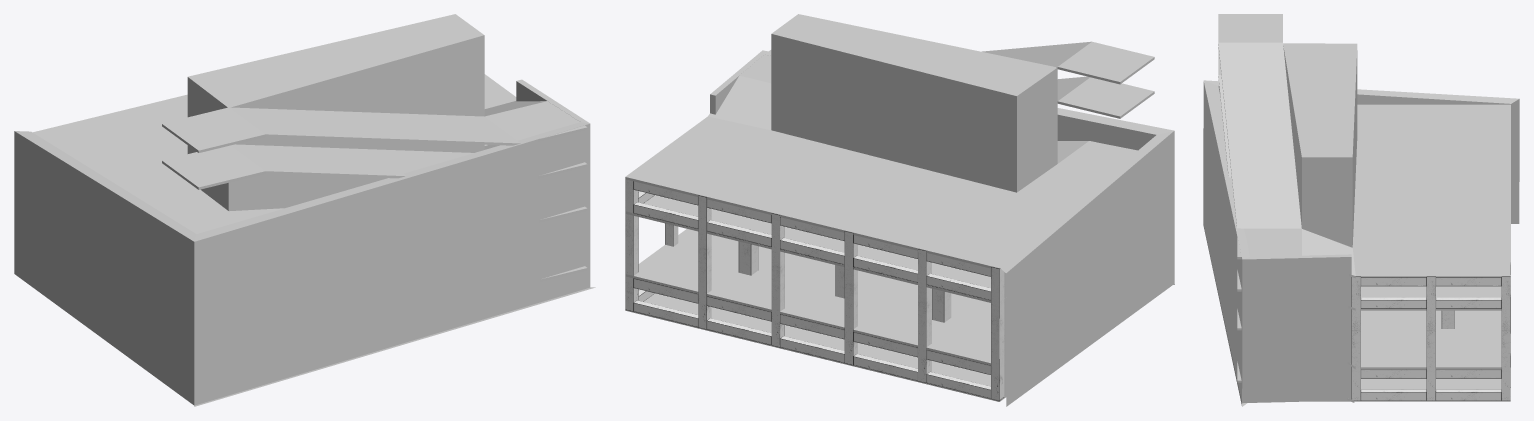
Rendered from Map2.fbx.
The picture shows the model from 3 angles, left to right: view 1: azimuth 30°, elevation 25°; view 2: azimuth 150°, elevation 25°; view 3: azimuth 270°, elevation 25°; orthographic projection. The views are drawn at different scales.
Parts seen in each view (by area): view 1: Floor.007, Floor.003, Floor.005, Floor.004, Floor.006, Floor.001; view 2: Floor.005, Floor.003, Floor.007, Floor.001, Cube.002, Cube.017, Floor.004, Cube.022, Floor, Cube.001, Cube; view 3: Floor.005, Floor.007, Floor.003, Floor.001, Cube.001, Floor.004, Floor, Cube.018, Cube.021, Cube.015, Cube.019, Cube.016 (+1 smaller).
Boxes of the visible parts, x1=… form: Floor.007: x1=14, y1=79, x2=595, y2=406; Floor.003: x1=187, y1=14, x2=484, y2=211; Floor.005: x1=33, y1=74, x2=587, y2=223; Floor.004: x1=162, y1=144, x2=587, y2=189; Floor.006: x1=240, y1=144, x2=484, y2=210; Floor.001: x1=179, y1=206, x2=587, y2=233; Floor.005: x1=625, y1=41, x2=1154, y2=268; Floor.003: x1=771, y1=14, x2=1057, y2=192; Floor.007: x1=710, y1=50, x2=1174, y2=406; Floor.001: x1=625, y1=141, x2=1137, y2=365; Cube.002: x1=698, y1=195, x2=1004, y2=400; Cube.017: x1=633, y1=278, x2=990, y2=398; Floor.004: x1=625, y1=76, x2=1154, y2=303; Cube.022: x1=633, y1=181, x2=990, y2=300; Floor: x1=625, y1=293, x2=1006, y2=401; Cube.001: x1=625, y1=179, x2=678, y2=311; Cube: x1=738, y1=241, x2=951, y2=322; Floor.005: x1=1218, y1=14, x2=1510, y2=278; Floor.007: x1=1203, y1=80, x2=1519, y2=406; Floor.003: x1=1283, y1=43, x2=1357, y2=247; Floor.001: x1=1237, y1=309, x2=1510, y2=369; Cube.001: x1=1351, y1=276, x2=1510, y2=400; Floor.004: x1=1218, y1=46, x2=1510, y2=310; Floor: x1=1313, y1=367, x2=1510, y2=401; Cube.018: x1=1436, y1=369, x2=1501, y2=400; Cube.021: x1=1436, y1=277, x2=1501, y2=308; Cube.015: x1=1361, y1=389, x2=1426, y2=400; Cube.019: x1=1361, y1=297, x2=1426, y2=308; Cube.016: x1=1361, y1=369, x2=1426, y2=378.
Bounding box in the file's own units: 5912 × 3303 × 4345.
Materials: 8 (7 with a texture image).
